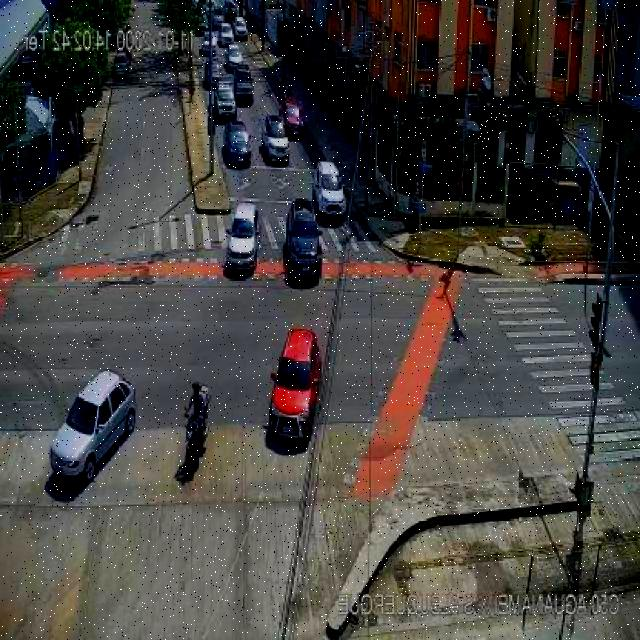car: (46, 368, 134, 483), (267, 327, 322, 445), (284, 200, 322, 282), (224, 202, 260, 272), (314, 158, 346, 220), (263, 115, 291, 163), (224, 118, 252, 164), (282, 96, 304, 136), (232, 66, 254, 102), (214, 82, 237, 116), (225, 44, 243, 70), (205, 60, 222, 86), (202, 30, 216, 56), (220, 22, 234, 46), (115, 53, 128, 76), (234, 17, 248, 37), (196, 13, 209, 32), (213, 6, 224, 28), (225, 0, 238, 18)
motorbike: (182, 380, 210, 474), (412, 180, 421, 228), (187, 72, 196, 101), (284, 80, 292, 98)
